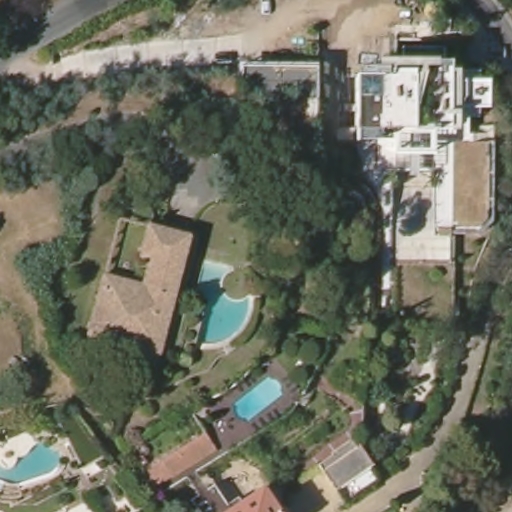pool: (191, 257, 255, 349), (1, 441, 61, 487), (234, 373, 286, 425)
